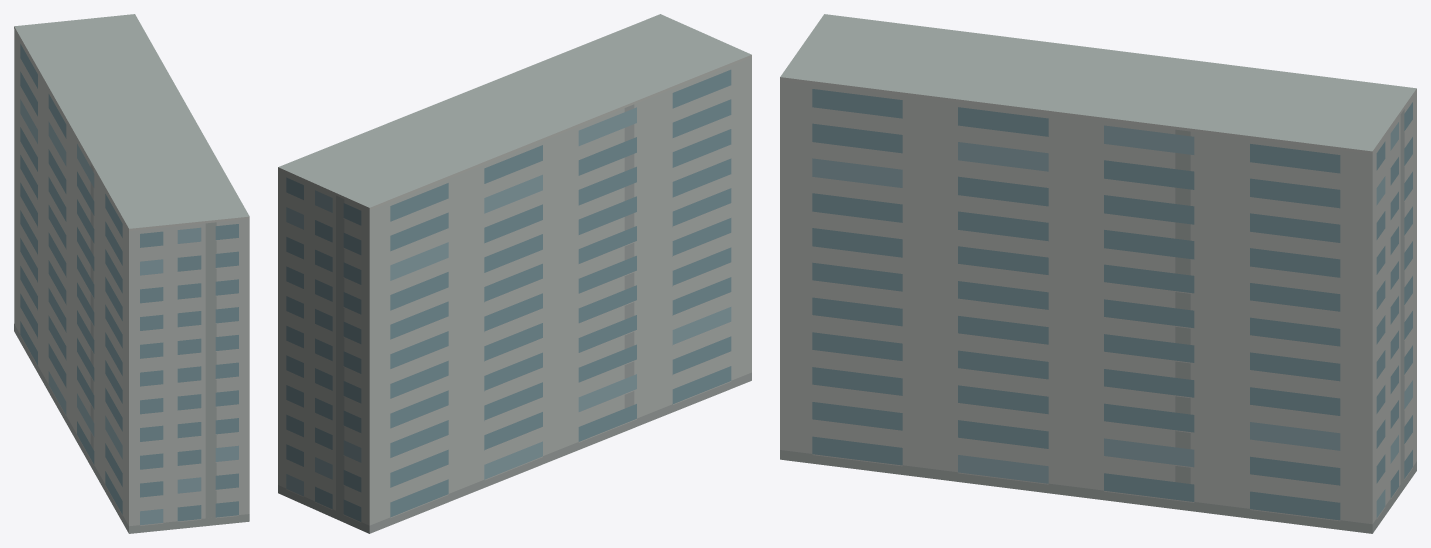
Rendered from residential-0b90742a-d087-4de4-8fba-e3081e6e360b.glb.
3 renders of one model, left to right at view 1: azimuth 30°, elevation 25°; view 2: azimuth 150°, elevation 25°; view 3: azimuth 270°, elevation 25°, orthographic. The views are drawn at different scales.
Visible parts, largest first — view 1: residential-0b90742a-d087-4de4-8fba-e3081e6e360b.tmp; view 2: residential-0b90742a-d087-4de4-8fba-e3081e6e360b.tmp; view 3: residential-0b90742a-d087-4de4-8fba-e3081e6e360b.tmp.
Part boxes in pixels (x1,y1,x2,y2): residential-0b90742a-d087-4de4-8fba-e3081e6e360b.tmp: (14,14,249,533); residential-0b90742a-d087-4de4-8fba-e3081e6e360b.tmp: (278,14,751,533); residential-0b90742a-d087-4de4-8fba-e3081e6e360b.tmp: (780,14,1416,533).
Bounding box in the file's own units: 24.67 × 32 × 48.29.
